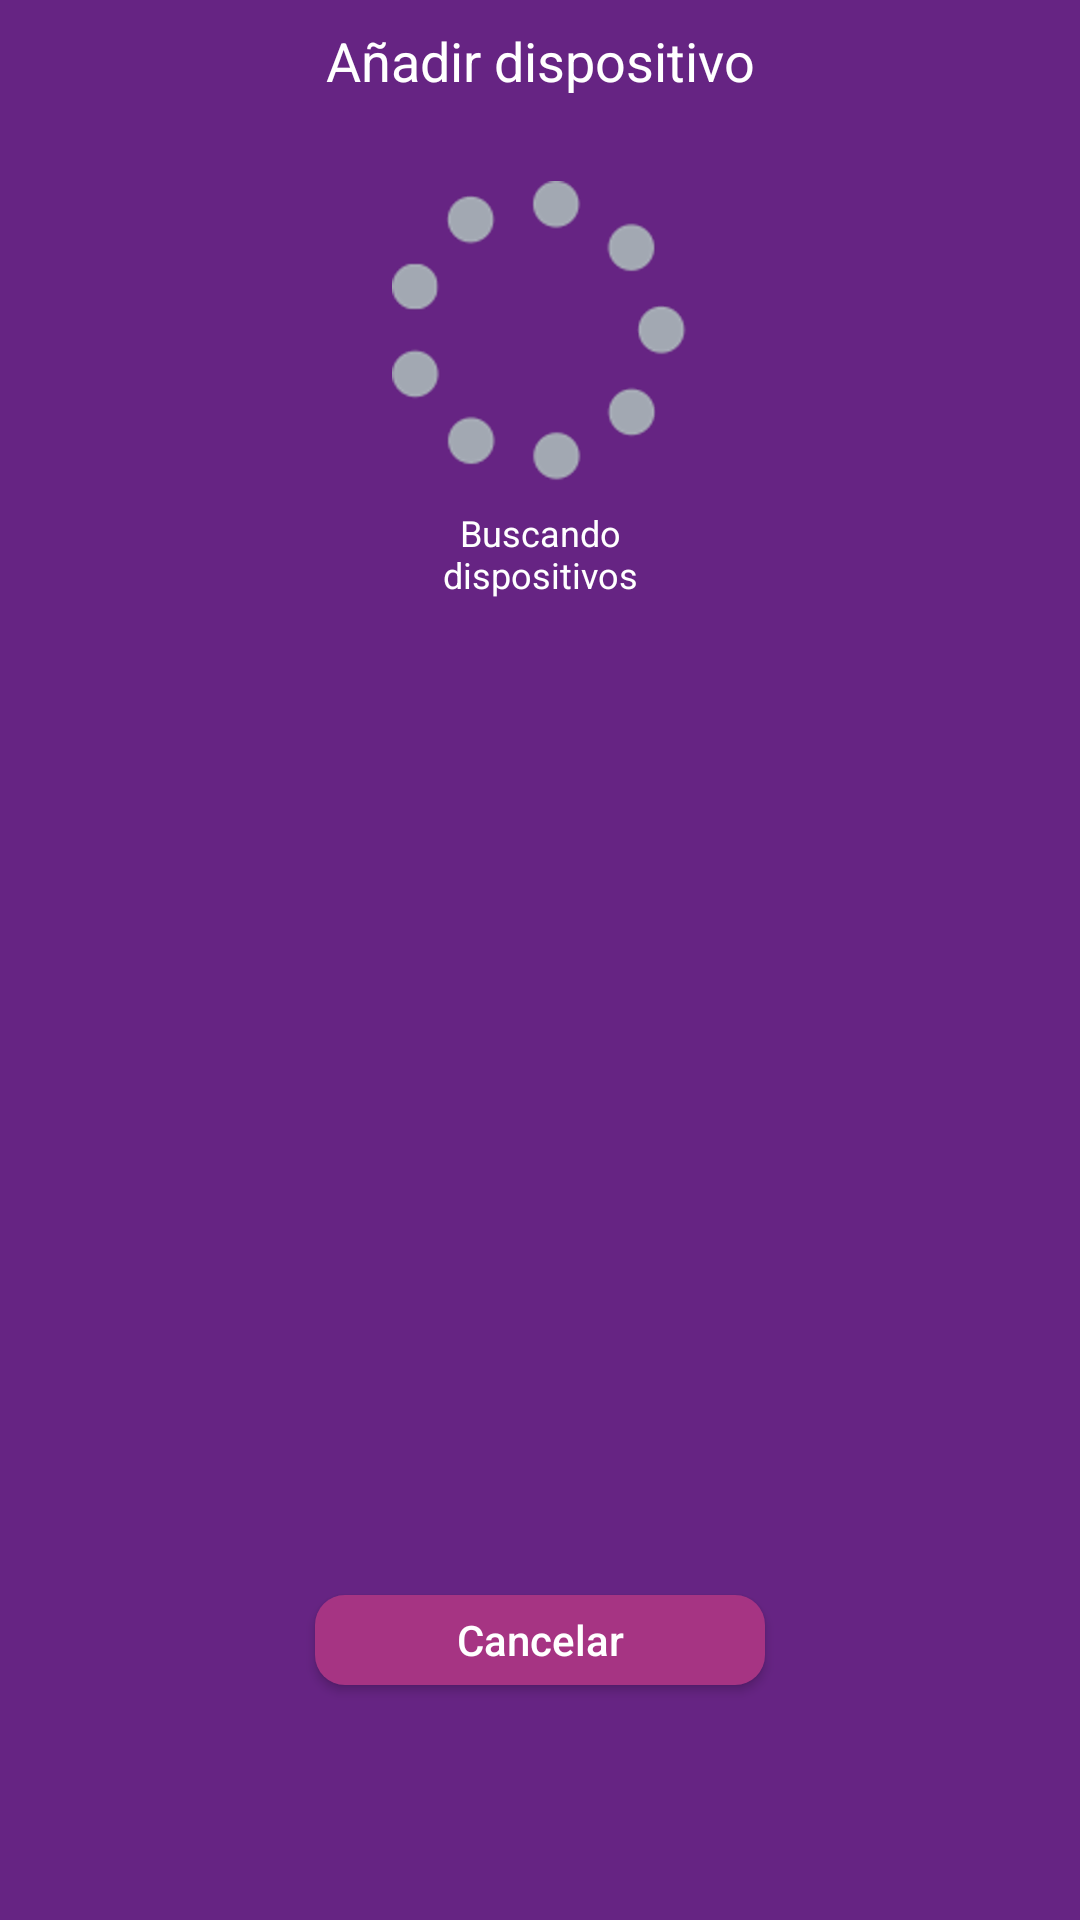

Icon click points for this 1080×1920 phone screenshot, format point (x, y):
progress bar: point (538, 330)
